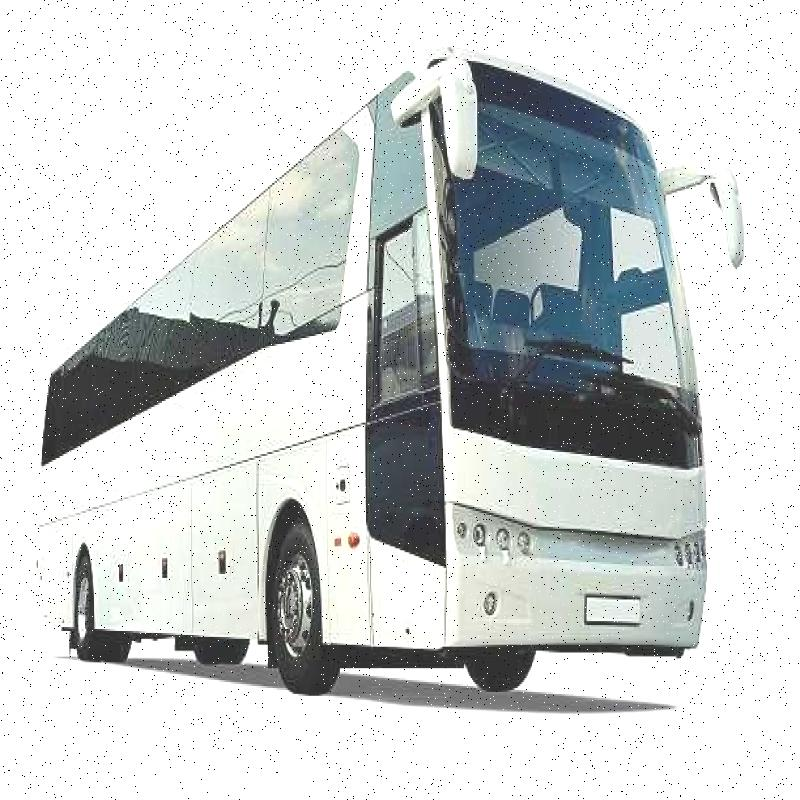bus: (17, 27, 753, 721)
